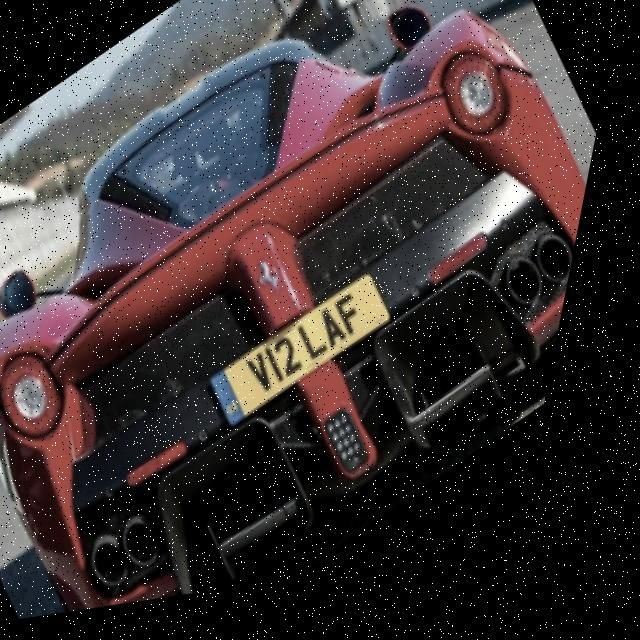license_plate: (244, 290, 399, 421)
